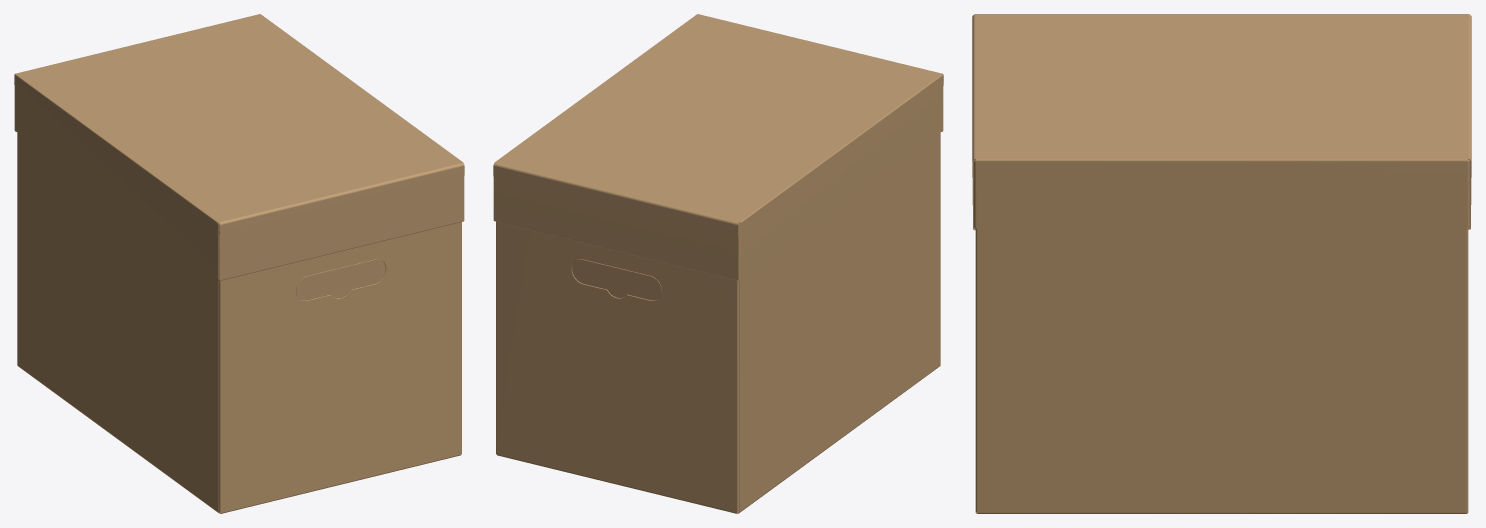
File: box_paper_office_burgundy_a01.glb
3 views of the same model, side by side, from view 1: azimuth 30°, elevation 25°; view 2: azimuth 150°, elevation 25°; view 3: azimuth 270°, elevation 25° (orthographic). The views are drawn at different scales.
Size of the model in its own units: 0.2125 by 0.241 by 0.3066.
